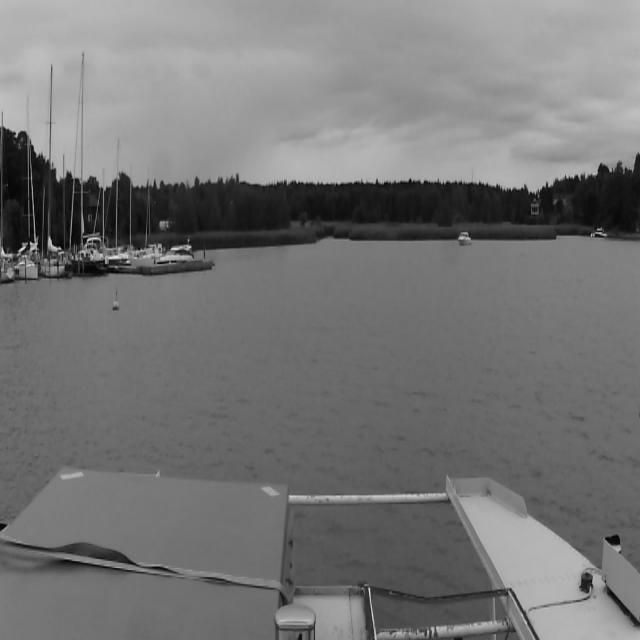buoy: (113, 290, 121, 313)
ship: (72, 53, 106, 275), (44, 65, 70, 274), (16, 92, 41, 278), (127, 181, 153, 263), (110, 140, 126, 270), (156, 246, 196, 266), (594, 225, 608, 241), (458, 230, 472, 246)
